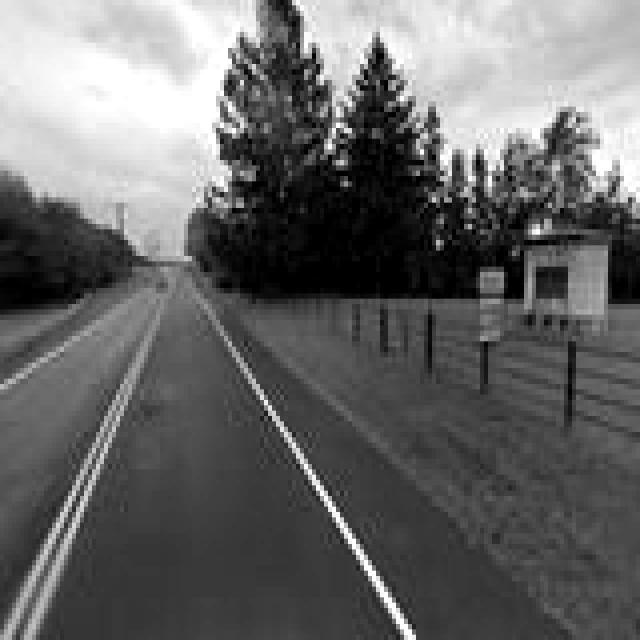cleat: (0, 175, 580, 640)
